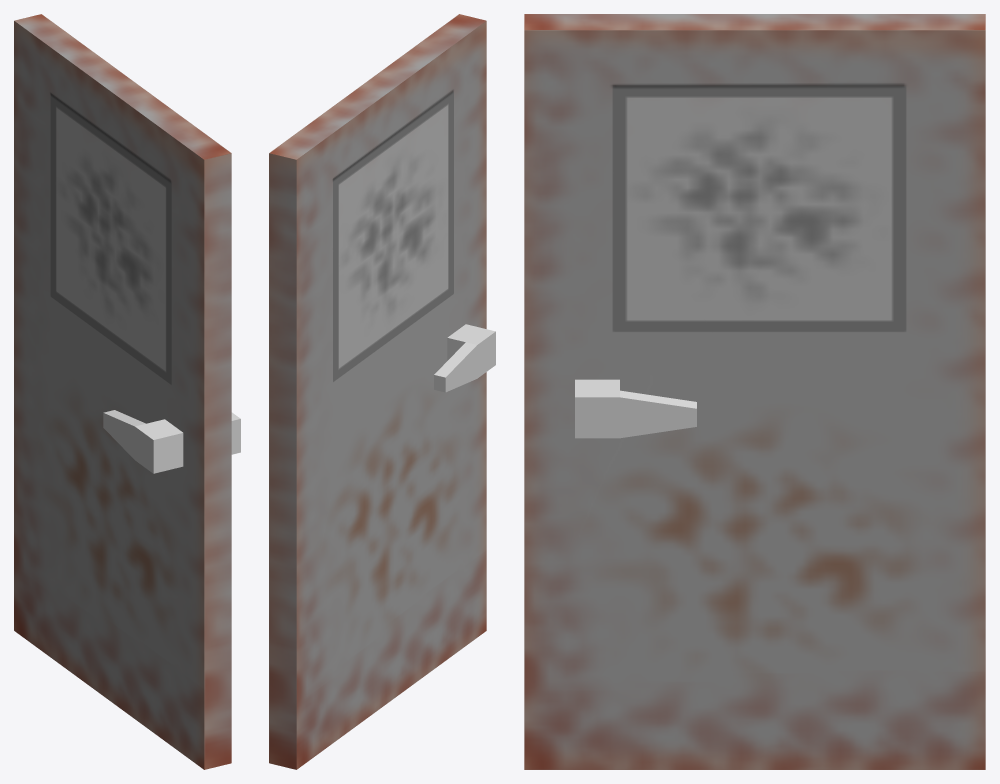
Rendered from door.fbx.
The picture shows the model from 3 angles, left to right: view 1: azimuth 30°, elevation 25°; view 2: azimuth 150°, elevation 25°; view 3: azimuth 270°, elevation 25°; orthographic projection. The views are drawn at different scales.
Visible parts, largest first — view 1: door, handle; view 2: door, handle; view 3: door, handle.
Part boxes in pixels (x1,y1,x2,y2): door: (14, 14, 231, 769); handle: (103, 410, 240, 473); door: (269, 14, 486, 769); handle: (434, 324, 495, 392); door: (524, 14, 985, 769); handle: (575, 379, 696, 438).
Bounding box in the file's own units: 54.36 × 363 × 205.
